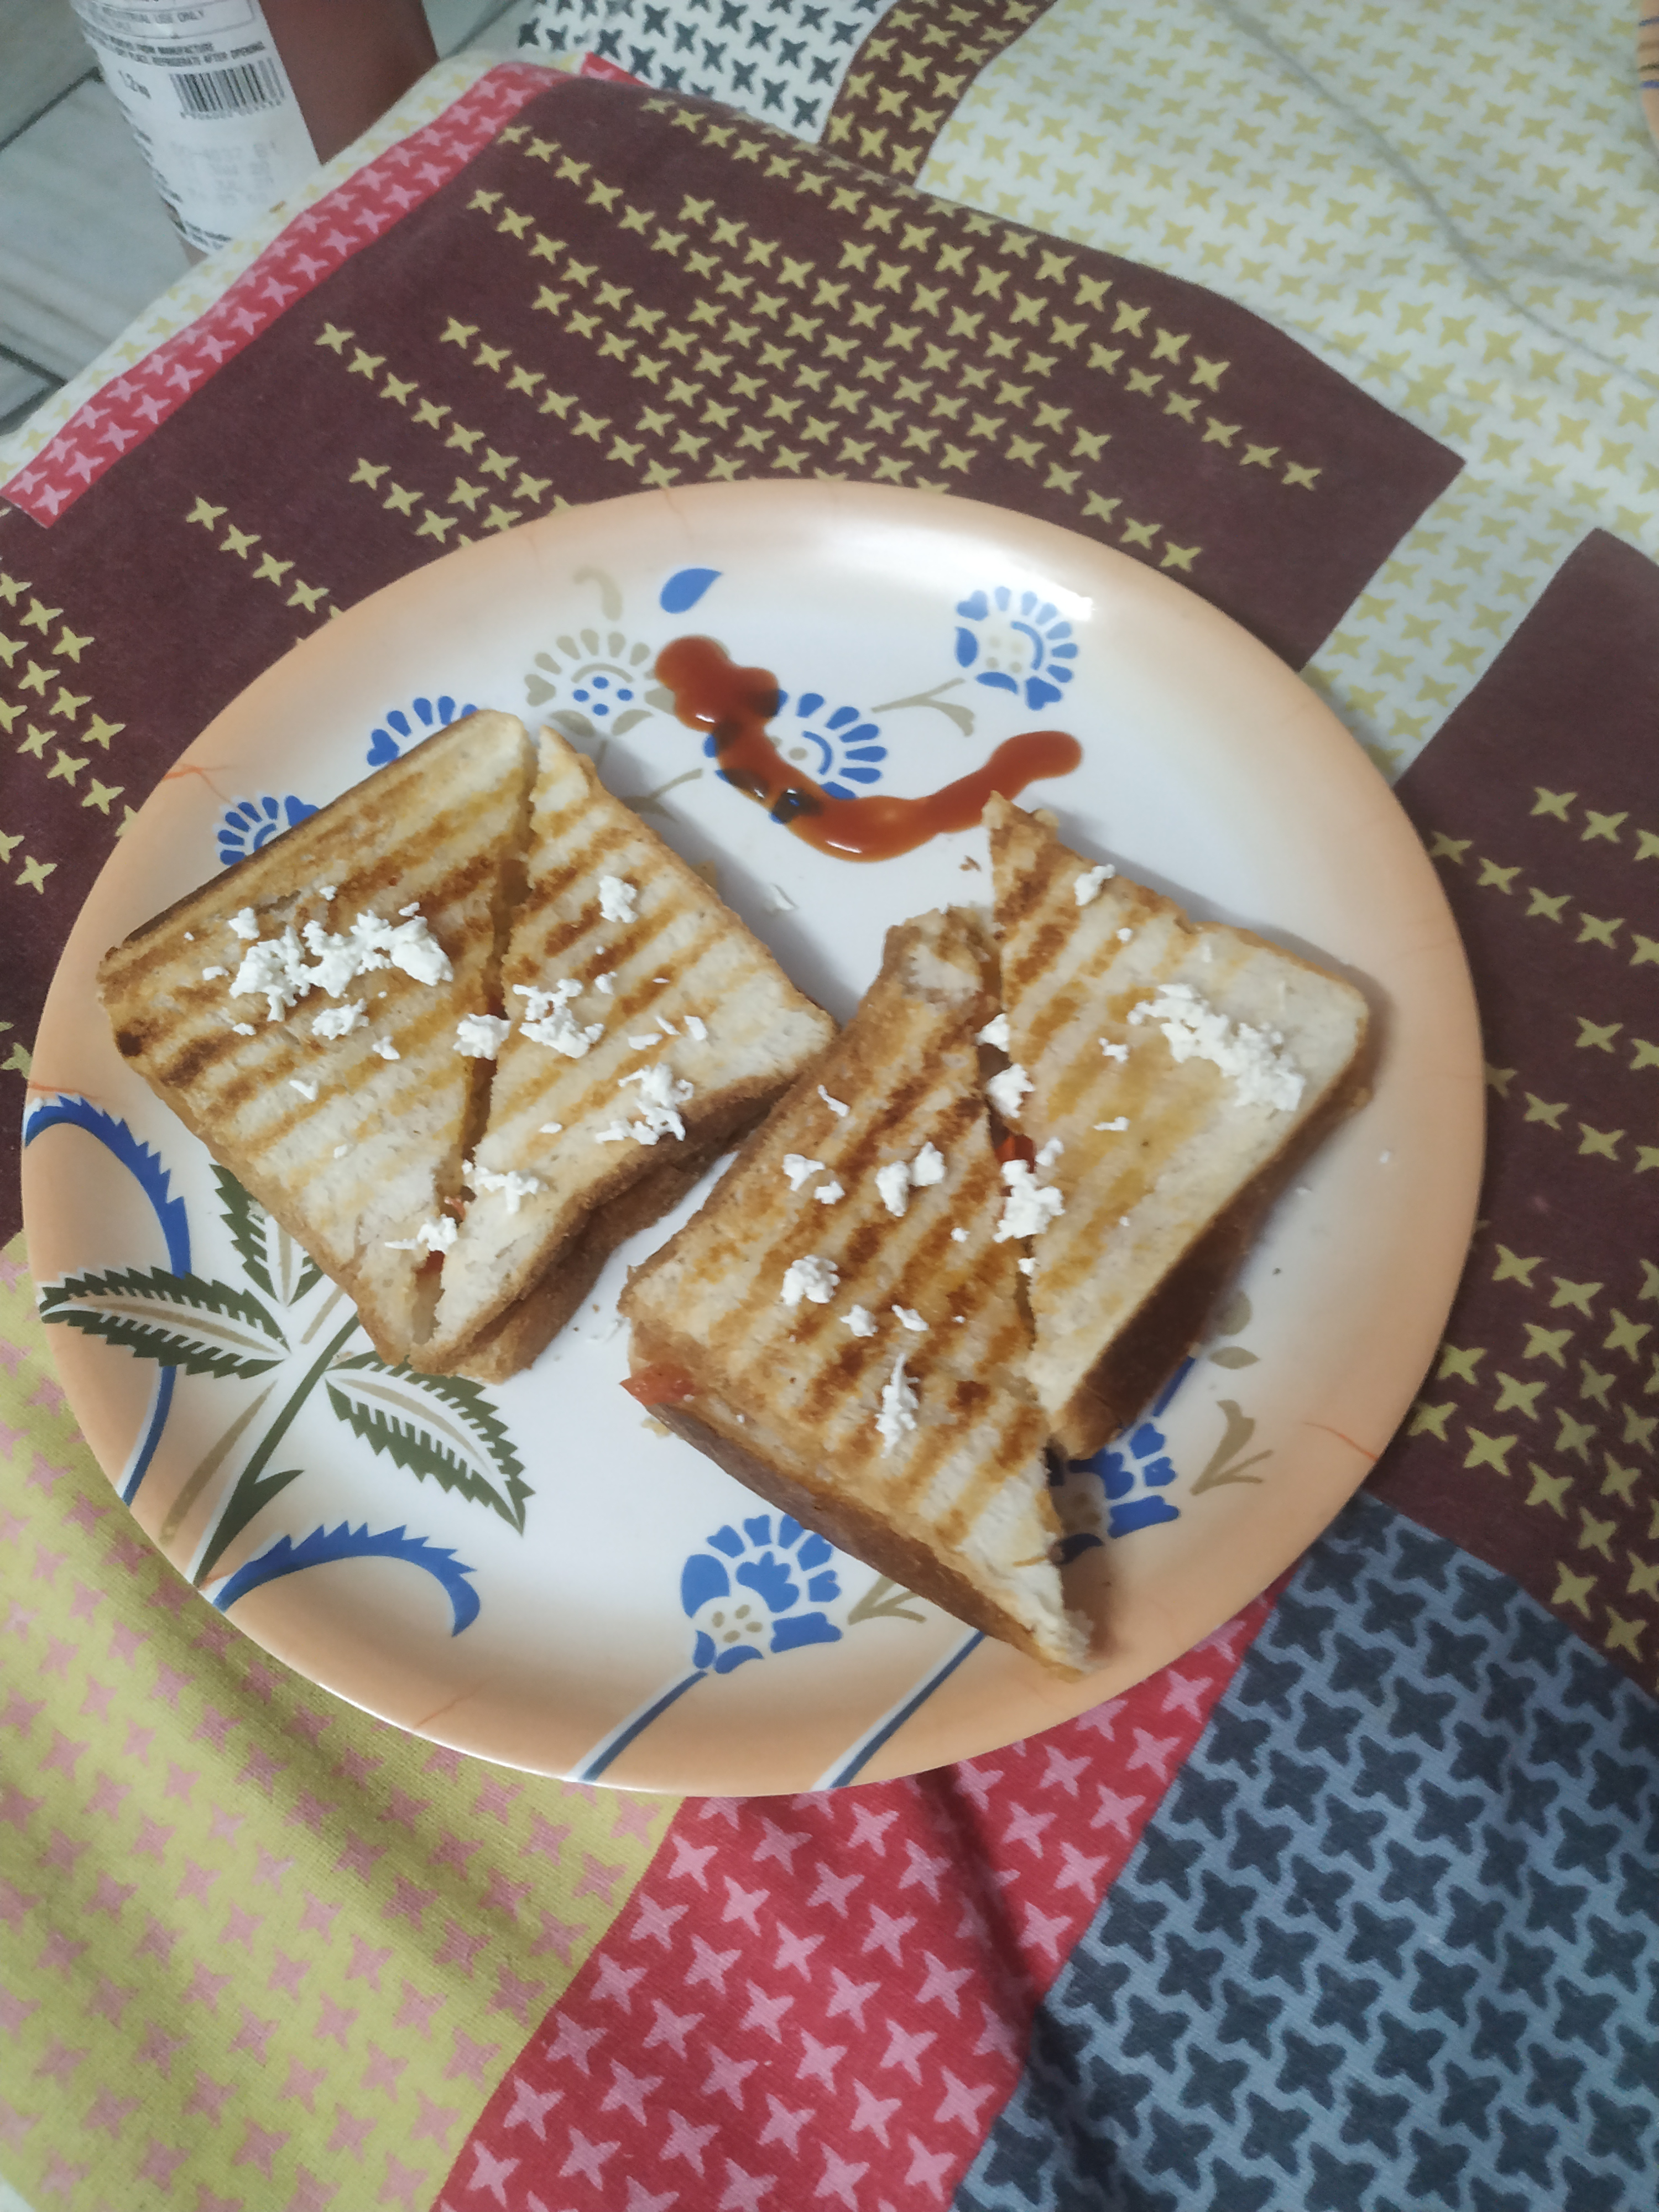food: (85, 697, 1396, 1674)
